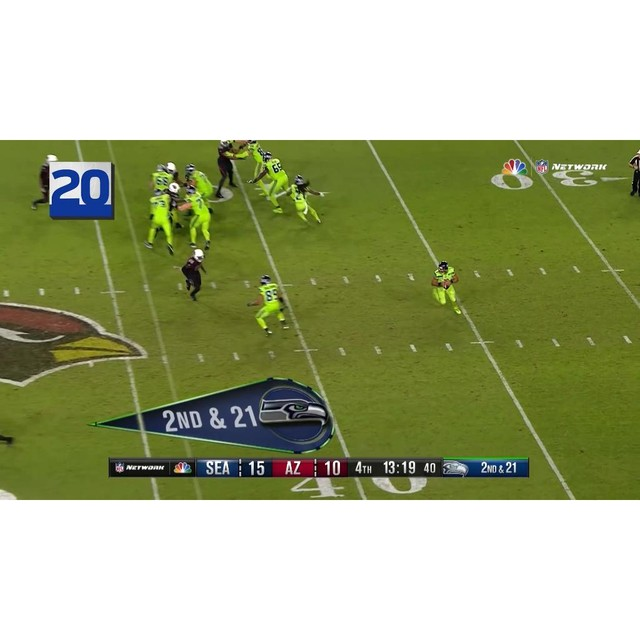american-football-player: (246, 274, 289, 337), (248, 151, 289, 212), (143, 188, 174, 256), (184, 186, 213, 250), (289, 174, 324, 225), (214, 140, 242, 198), (431, 261, 460, 315), (180, 248, 207, 302), (30, 154, 56, 210), (148, 162, 179, 197), (184, 162, 213, 199)
referee: (629, 148, 640, 197)
